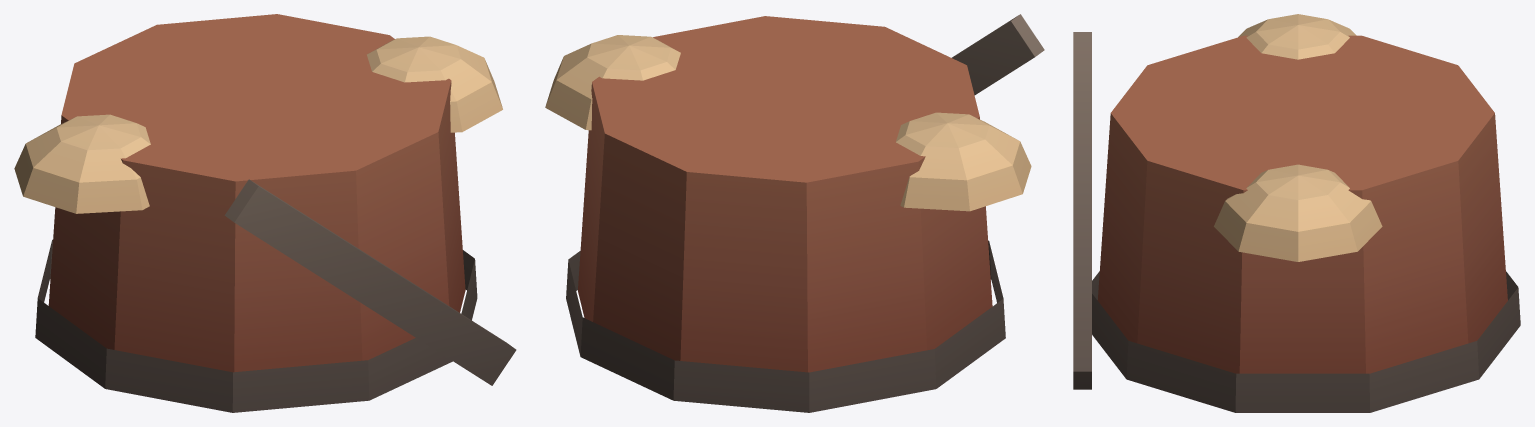
File: hunter_chest_t1.glb
3 views of the same model, side by side, from view 1: azimuth 30°, elevation 25°; view 2: azimuth 150°, elevation 25°; view 3: azimuth 270°, elevation 25° (orthographic). The views are drawn at different scales.
Visible parts, largest first — view 1: hunter_chest_t1__chest; view 2: hunter_chest_t1__chest; view 3: hunter_chest_t1__chest.
Boxes of the visible parts, <box> form: hunter_chest_t1__chest: <box>14,14,516,412</box>; hunter_chest_t1__chest: <box>545,14,1044,412</box>; hunter_chest_t1__chest: <box>1073,14,1520,412</box>.
Bounding box in the file's own units: 1.12 × 0.5832 × 0.955.
Materials: 1 (1 with a texture image).
